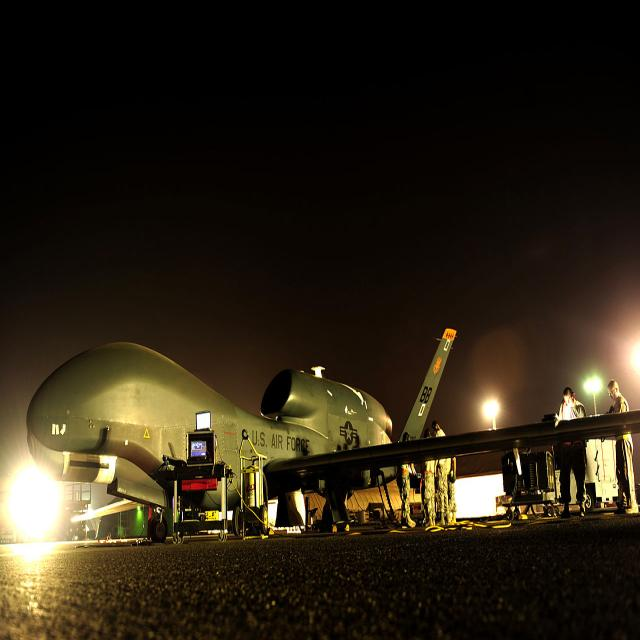MIL_Plane: (26, 325, 640, 539)
